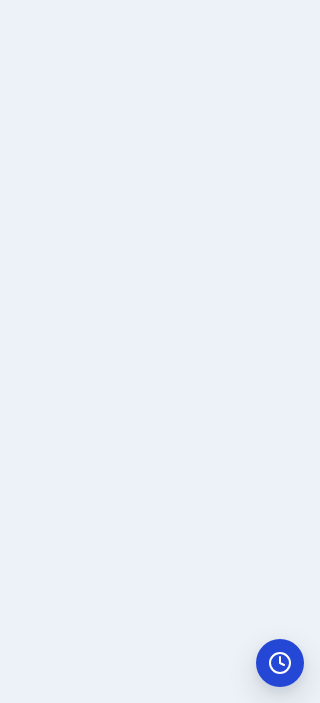
Test: TimeTravelPanel › changes the month before picking
The width and height of the screenshot is (320, 703).
Later steps or results of the test are not shown.
Click the button named "Viagem no tempo" at (280, 663), box [256,639,304,687]
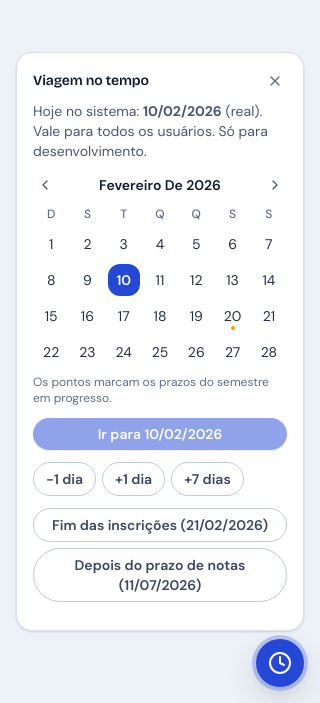
Click the button named "Próximo mês" at (275, 185), box [263,173,287,197]
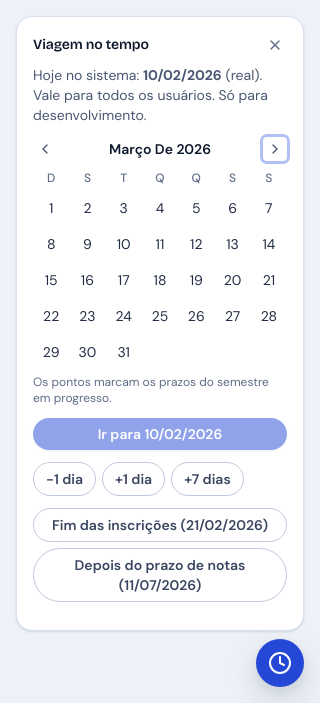
Now the text "março de 2026" is shown, box [109,139,211,159]
